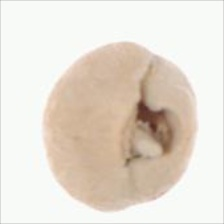L3: (123, 101, 178, 170)
L4: (44, 43, 196, 212)
